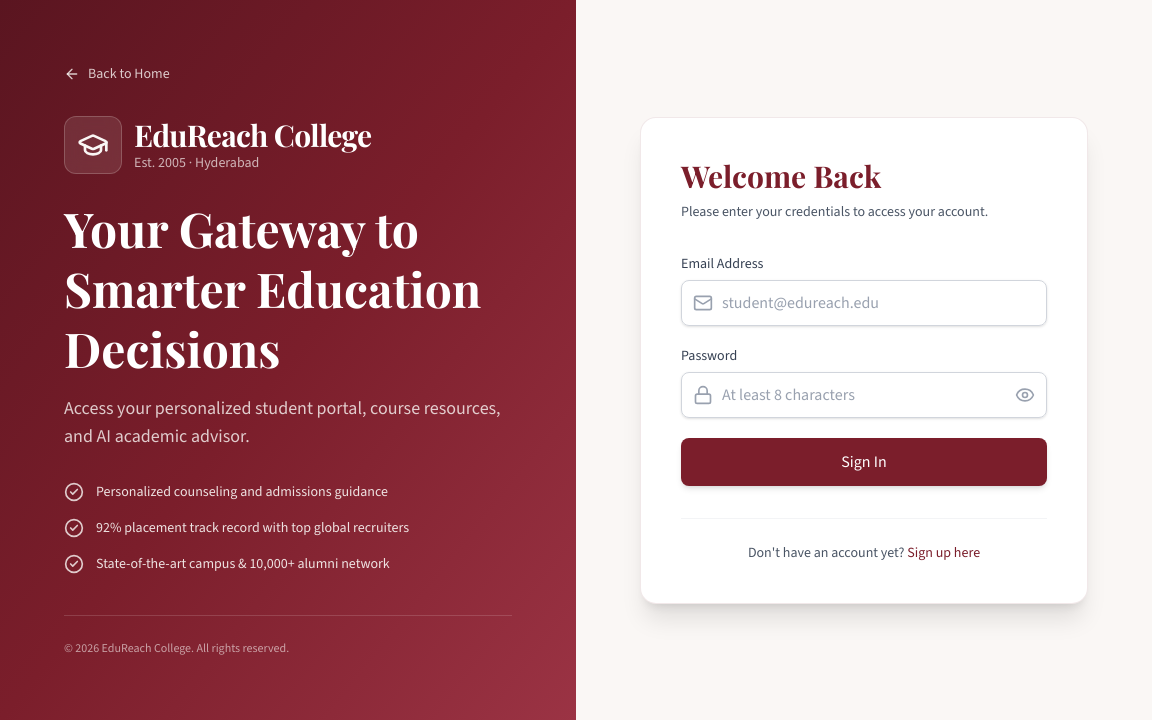
Test: LoginPage › shows validation error for invalid email and short password
Step 1. Type "invalid-email" into the field labelled "Email Address" → (864, 302), box [681,280,1047,326]
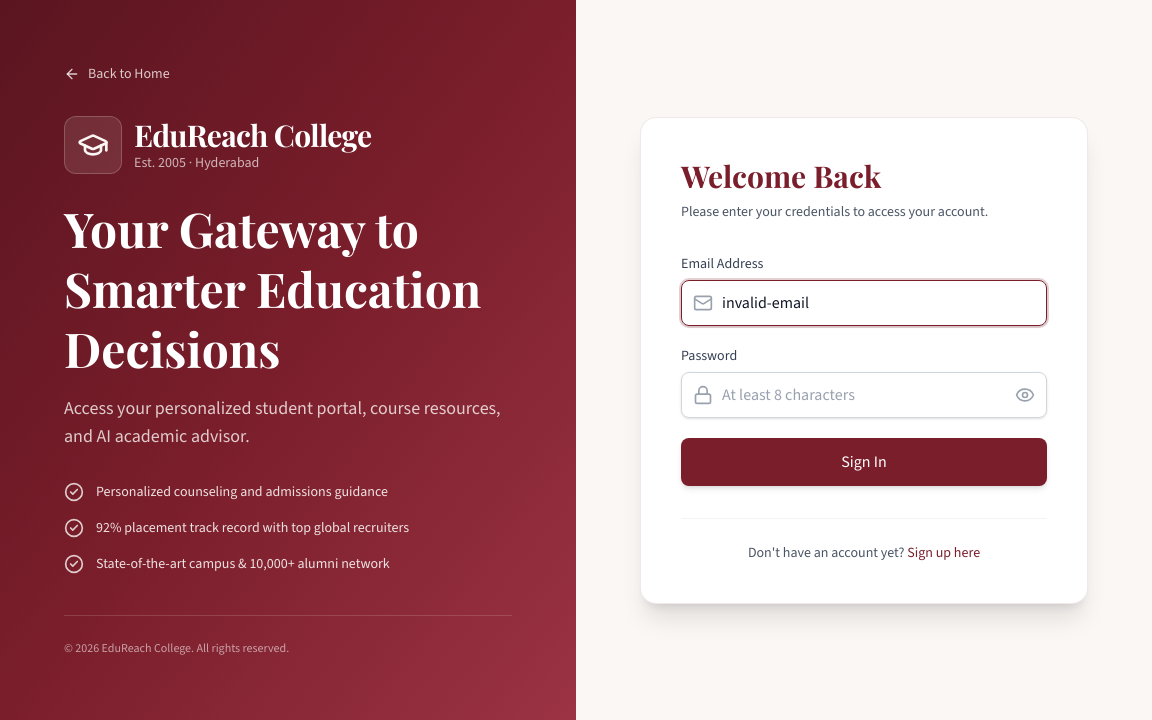
Step 2. Type "short" into the password field labelled "Password" → (864, 394), box [681,372,1047,418]
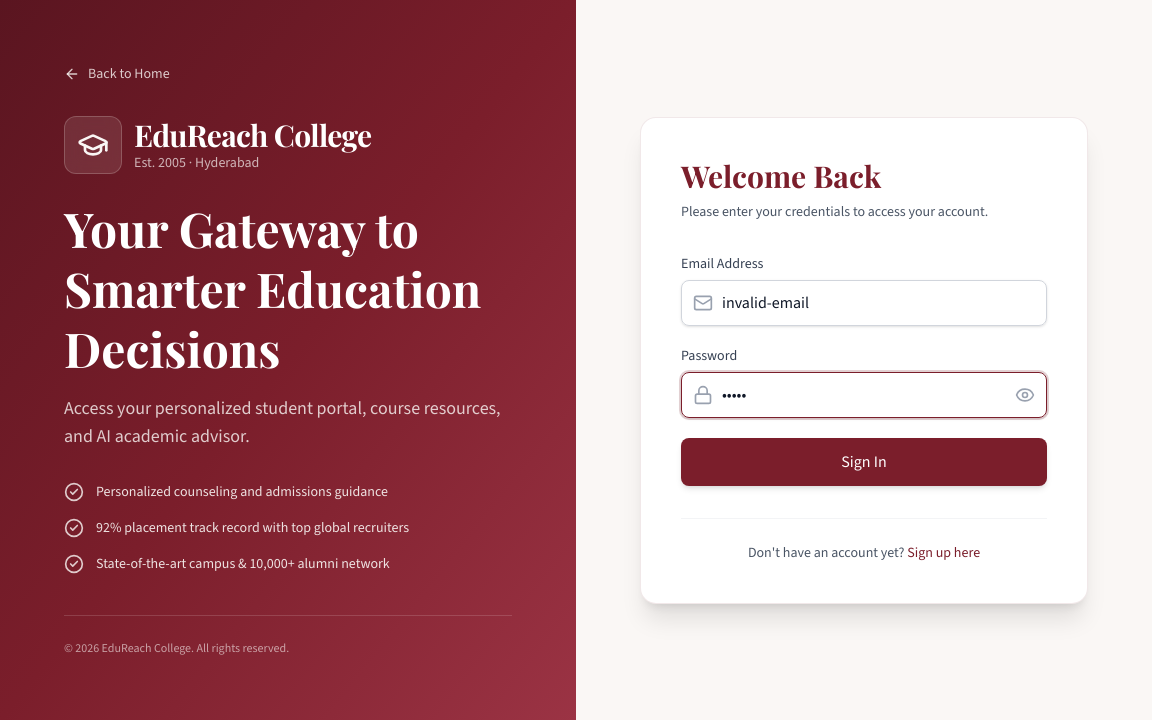
Step 3. Click the button "Sign In" → (864, 462), box [681,438,1047,486]
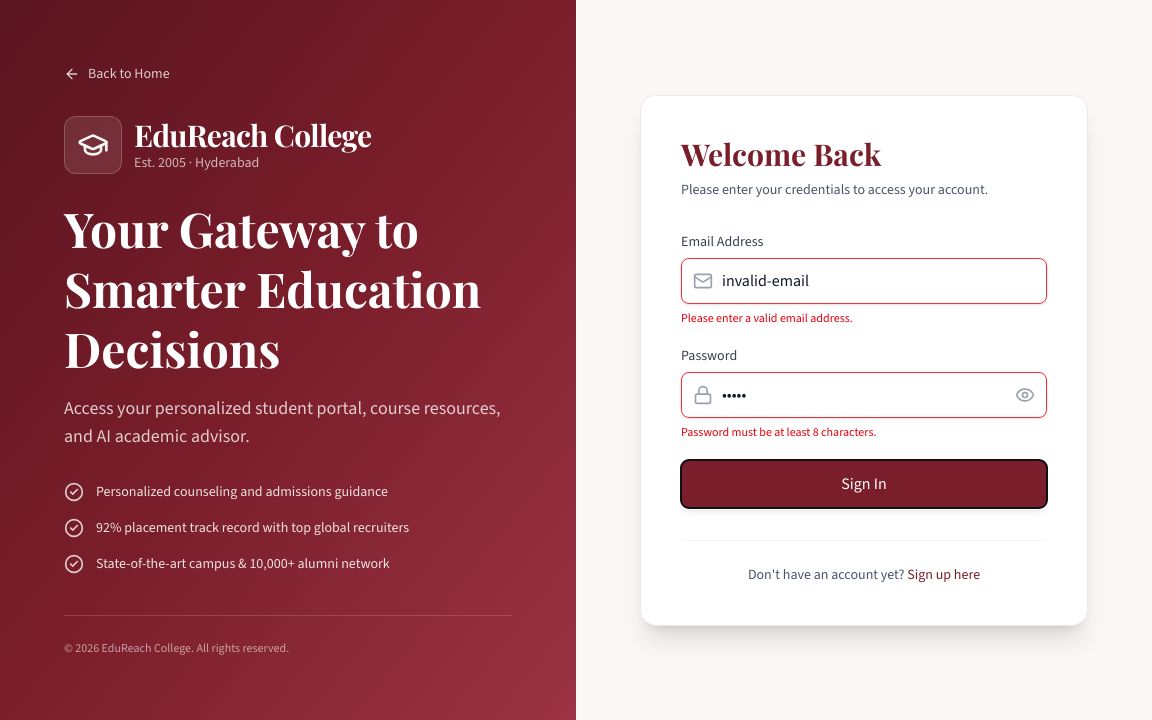
expect the text "Please enter a valid email address." is shown: met, box [681,310,853,326]
expect the text "Password must be at least 8 characters." is shown: met, box [681,424,876,440]
